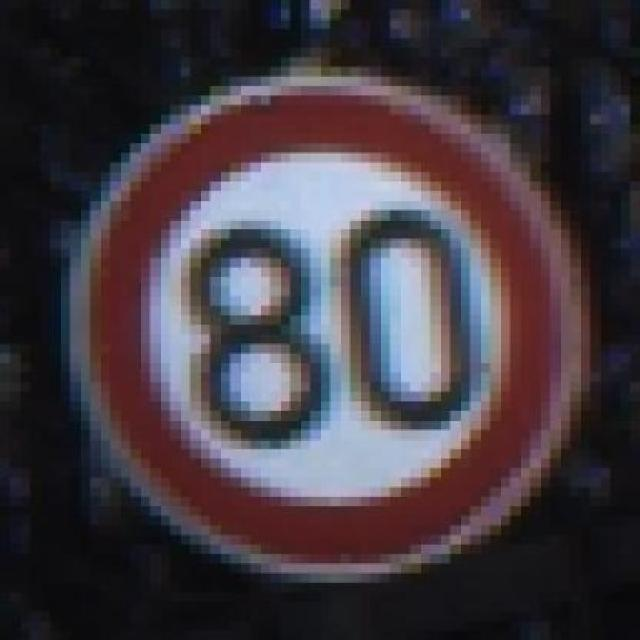forb_speed_over_80: (83, 82, 580, 576)
